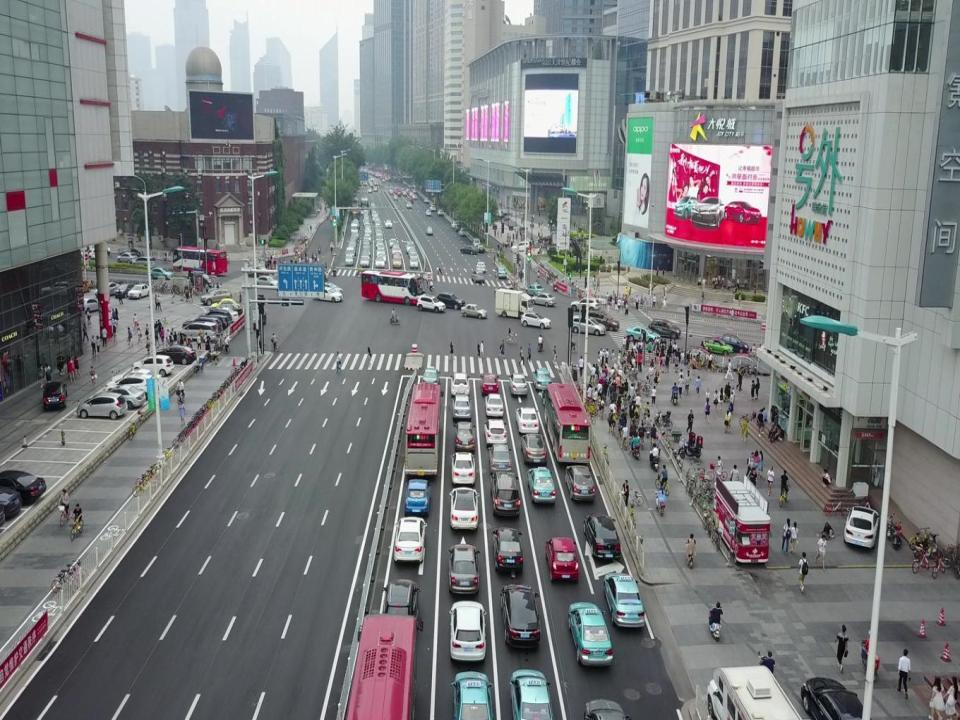bus: (343, 612, 424, 720), (712, 474, 772, 566), (542, 381, 592, 464), (404, 382, 444, 475), (360, 269, 428, 304), (169, 244, 228, 278)
car: (800, 676, 872, 720), (568, 602, 614, 668), (500, 582, 541, 648), (379, 579, 421, 639), (603, 572, 646, 629), (510, 669, 556, 720), (449, 600, 486, 660), (450, 670, 494, 720), (583, 513, 621, 559), (447, 544, 481, 594), (0, 469, 47, 505), (843, 505, 881, 549), (545, 536, 579, 584), (393, 516, 427, 564), (491, 526, 524, 573), (76, 391, 127, 419), (92, 384, 147, 409), (449, 487, 480, 531), (105, 374, 155, 400), (564, 465, 596, 501), (109, 368, 163, 389), (131, 353, 175, 378), (404, 478, 432, 517), (526, 467, 556, 503), (520, 432, 548, 468), (152, 345, 197, 366), (450, 451, 476, 485), (580, 310, 620, 332), (452, 420, 476, 454), (42, 380, 68, 411), (729, 353, 765, 375), (569, 315, 606, 336), (713, 332, 749, 353), (625, 325, 662, 345), (488, 442, 512, 472), (192, 314, 232, 332), (648, 318, 682, 339), (700, 336, 734, 357), (515, 406, 540, 434), (680, 346, 715, 366), (200, 308, 233, 328), (484, 419, 508, 446), (208, 303, 244, 321), (416, 294, 446, 314), (450, 372, 472, 399), (93, 280, 122, 300), (436, 290, 465, 310), (208, 307, 240, 325), (520, 310, 552, 328), (199, 289, 232, 306), (313, 285, 344, 303), (451, 394, 473, 419), (569, 296, 602, 312), (483, 392, 504, 417), (210, 298, 242, 314), (76, 296, 104, 314), (532, 367, 552, 392), (421, 366, 442, 388), (509, 372, 529, 395), (480, 373, 500, 395), (112, 282, 136, 300), (460, 304, 488, 319), (319, 280, 344, 296), (127, 284, 151, 300), (148, 266, 175, 280), (131, 255, 157, 269), (254, 275, 280, 289), (531, 293, 557, 307), (524, 282, 546, 298), (246, 266, 273, 278), (118, 246, 144, 258), (116, 252, 139, 264), (470, 270, 486, 284), (459, 244, 478, 255), (496, 266, 507, 280), (475, 261, 486, 274), (477, 243, 486, 254), (458, 227, 466, 237), (425, 226, 433, 235), (451, 221, 460, 229), (429, 204, 437, 213), (424, 208, 432, 216), (436, 208, 444, 216), (454, 225, 463, 232)
truck: (494, 288, 534, 319)
van: (704, 663, 803, 720), (489, 470, 521, 516), (176, 321, 219, 342), (181, 316, 224, 336), (471, 238, 480, 250)
